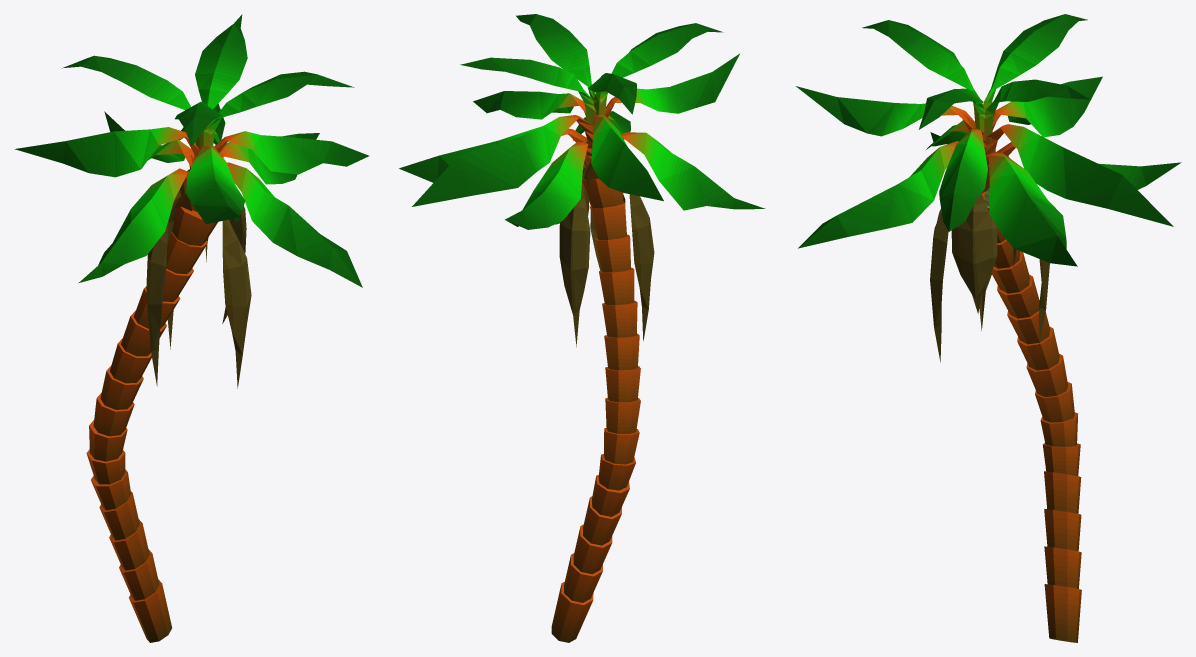
The model's file is StrangeCoconutTreeDefalt.fbx.
3 views of the same model, side by side, from view 1: azimuth 30°, elevation 25°; view 2: azimuth 150°, elevation 25°; view 3: azimuth 270°, elevation 25° (orthographic). The views are drawn at different scales.
Parts seen in each view (by area): view 1: DefaltCoconutLeaves, DeafaltCoconutBark; view 2: DefaltCoconutLeaves, DeafaltCoconutBark; view 3: DefaltCoconutLeaves, DeafaltCoconutBark.
Part boxes in pixels (x1=…): DefaltCoconutLeaves: x1=14, y1=14, x2=369, y2=388; DeafaltCoconutBark: x1=86, y1=207, x2=217, y2=642; DefaltCoconutLeaves: x1=399, y1=14, x2=765, y2=347; DeafaltCoconutBark: x1=551, y1=178, x2=640, y2=642; DefaltCoconutLeaves: x1=796, y1=14, x2=1181, y2=362; DeafaltCoconutBark: x1=981, y1=191, x2=1081, y2=642.
Bounding box in the file's own units: 443 × 803 × 468.
Materials: 1 (1 with a texture image).
